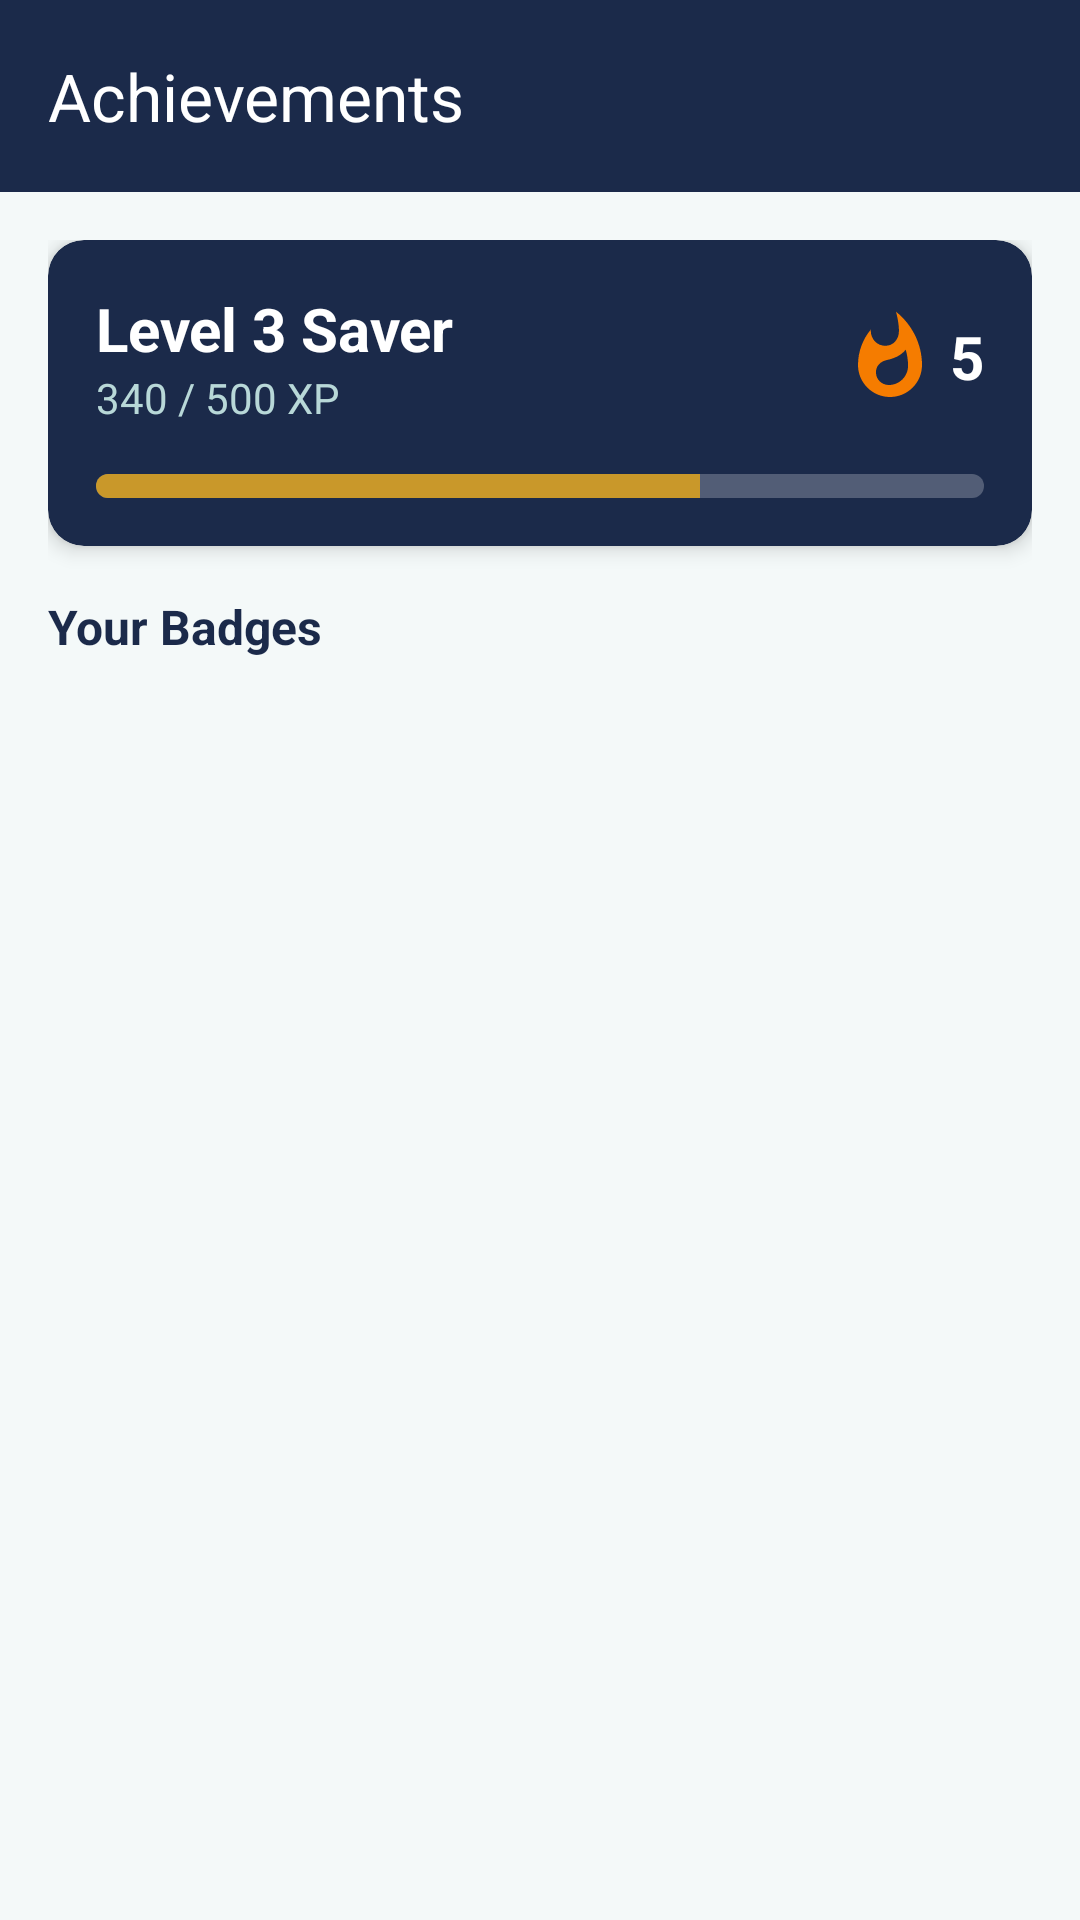

Icon bounding boxes for this 1080px x 1920px phone screenshot, format (x1, y1, x2, y2):
Streak: (858, 312, 922, 397)
